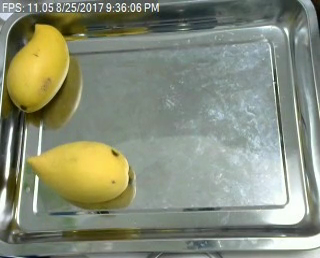Mango: (23, 135, 131, 205), (5, 16, 73, 112)
